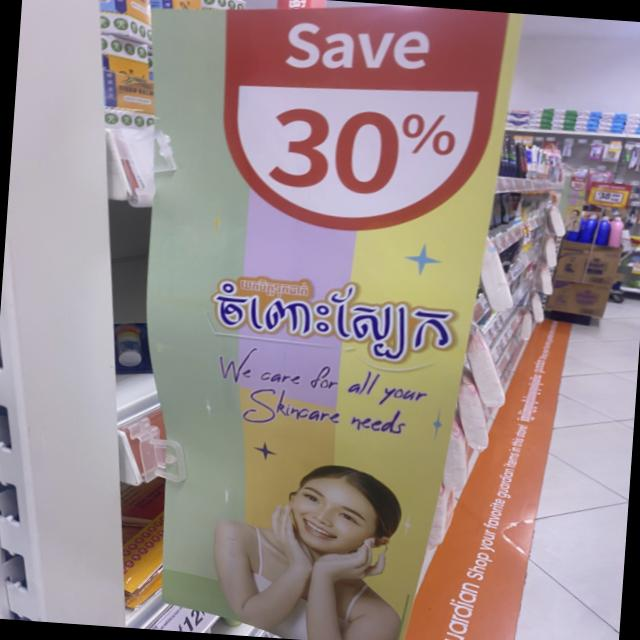710: (264, 101, 404, 198)
Yolov11_80vkh: (207, 271, 470, 372), (402, 107, 461, 160), (239, 274, 307, 299)
